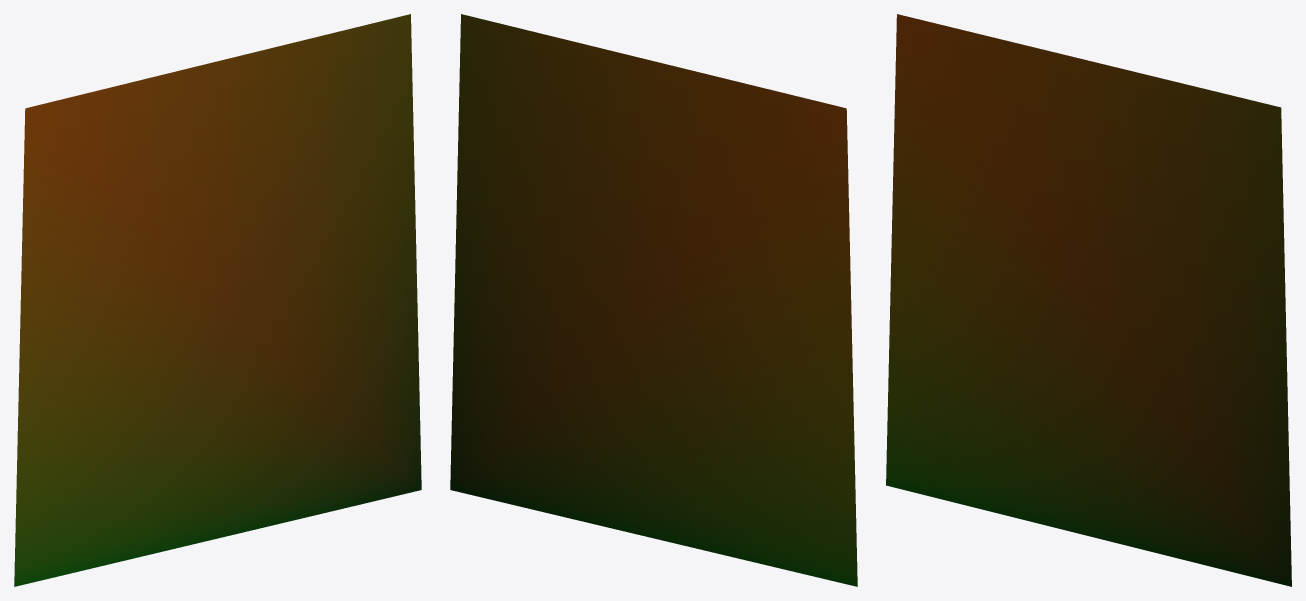
Rendered from Ocean Seaweed_LOD3_Var4_sdDgS.fbx.
The picture shows the model from 3 angles, left to right: view 1: azimuth 30°, elevation 25°; view 2: azimuth 150°, elevation 25°; view 3: azimuth 330°, elevation 25°; orthographic projection.
Parts seen in each view (by area): view 1: _q353_Var4_LOD3; view 2: _q353_Var4_LOD3; view 3: _q353_Var4_LOD3.
Part boxes in pixels (<box>): _q353_Var4_LOD3: <box>14,14,421,586</box>; _q353_Var4_LOD3: <box>450,14,857,586</box>; _q353_Var4_LOD3: <box>886,14,1291,586</box>.
Bounding box in the file's own units: 28.95 × 32.5 × 6.72e-06.
